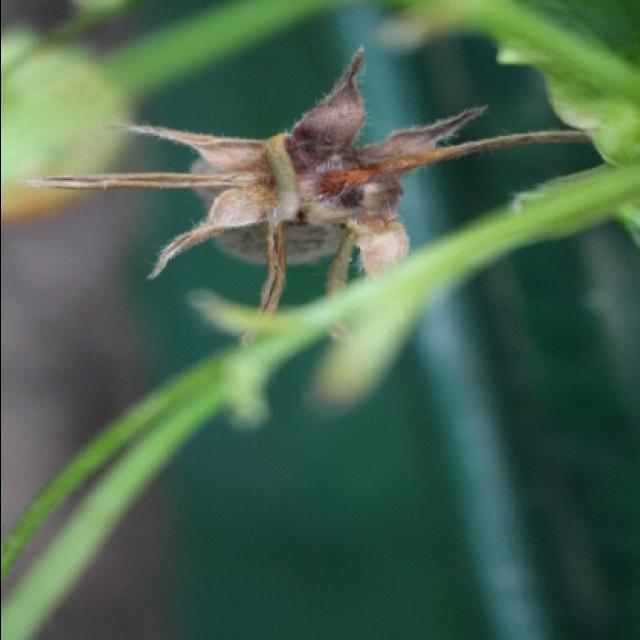Gray Mold: (26, 39, 589, 317)
